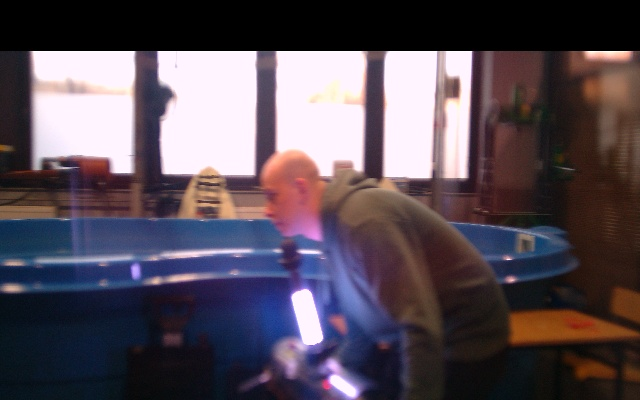white: (291, 288, 322, 346)
